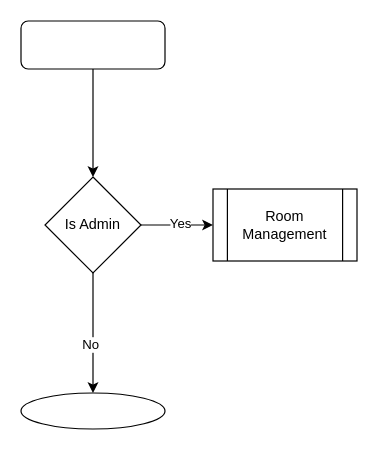
The diagram is 378 pixels wide and 450 high, and some of its shapes have lost their labels. The shapes that lost their labels are listed below. From the top down, each one's centre as x and y in pixels, then its label:
At point 92,44: "CheckRoom".
At point 92,410: "End".
